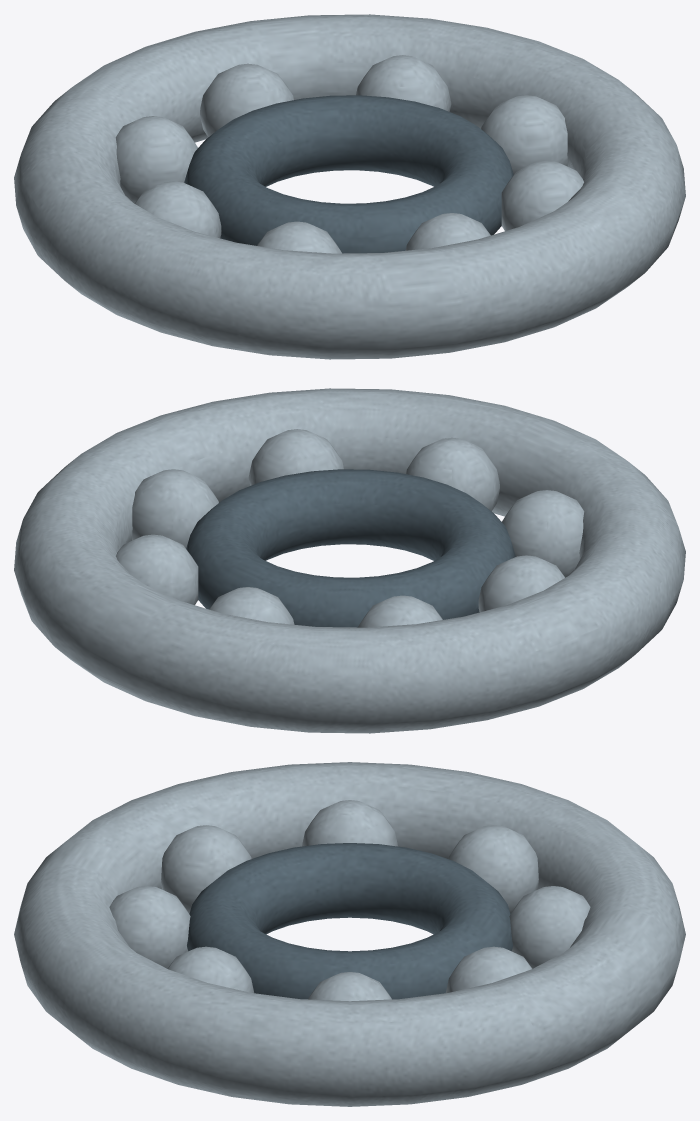
File: bearing.glb
The picture shows the model from 3 angles, top to bottom: view 1: azimuth 30°, elevation 25°; view 2: azimuth 150°, elevation 25°; view 3: azimuth 270°, elevation 25°; orthographic projection.
Parts seen in each view (by area): view 1: bearing_textured_mesh; view 2: bearing_textured_mesh; view 3: bearing_textured_mesh.
Part boxes in pixels (x1=…): bearing_textured_mesh: x1=14, y1=14, x2=685, y2=359; bearing_textured_mesh: x1=14, y1=388, x2=685, y2=733; bearing_textured_mesh: x1=14, y1=762, x2=685, y2=1106.
Bounding box in the file's own units: 1.52 × 0.24 × 1.52.
Materials: 1 (1 with a texture image).
